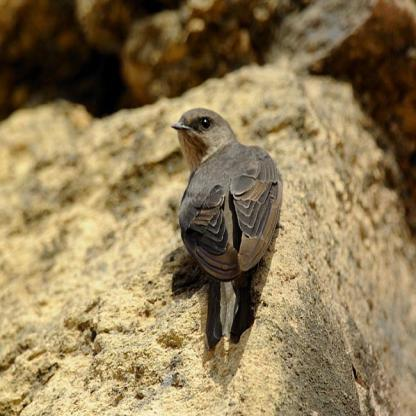Burung: (170, 107, 282, 352)
